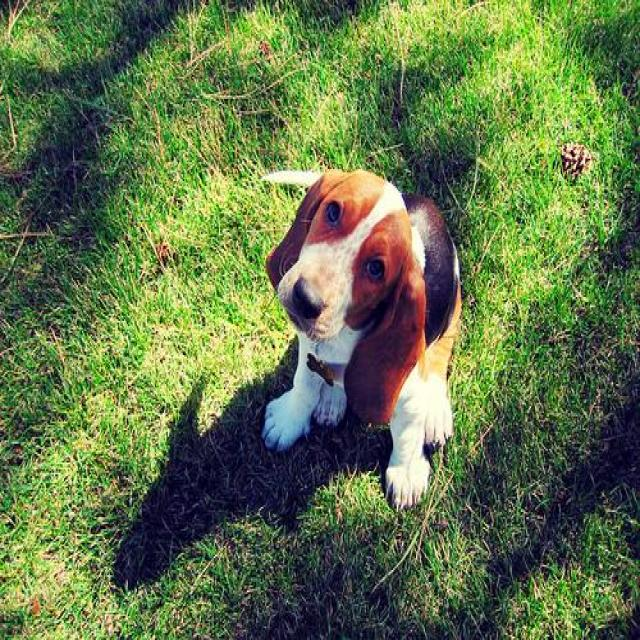basset: (258, 121, 464, 510)
